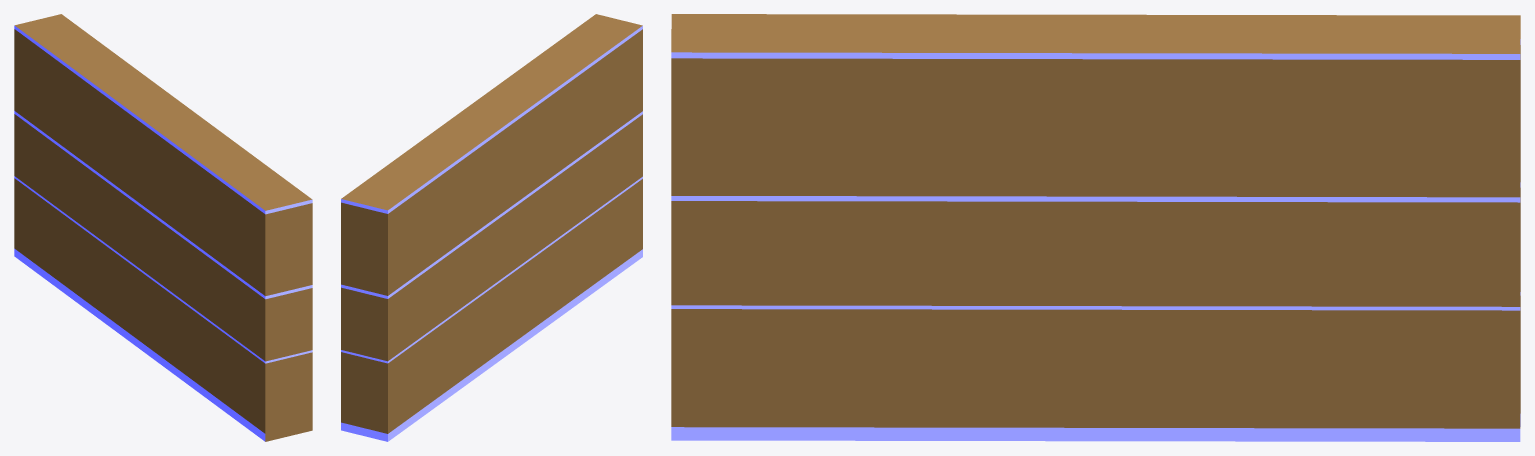
The model's file is doorwall.glb.
3 renders of one model, left to right at view 1: azimuth 30°, elevation 25°; view 2: azimuth 150°, elevation 25°; view 3: azimuth 270°, elevation 25°, orthographic. The views are drawn at different scales.
Parts seen in each view (by area): view 1: wall_1_; view 2: wall_1_; view 3: wall_1_.
Boxes of the visible parts, x1,y1,x2,y2 form: wall_1_: (14,14,312,441); wall_1_: (341,14,642,441); wall_1_: (671,14,1520,441).
Size of what is drawn, in the model's own units: 3.53 by 16 by 31.74.
